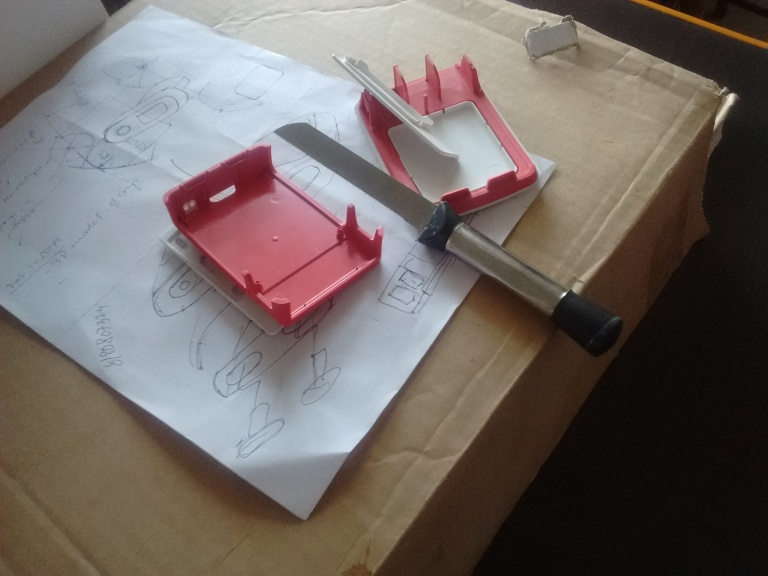knife: (270, 117, 622, 358)
